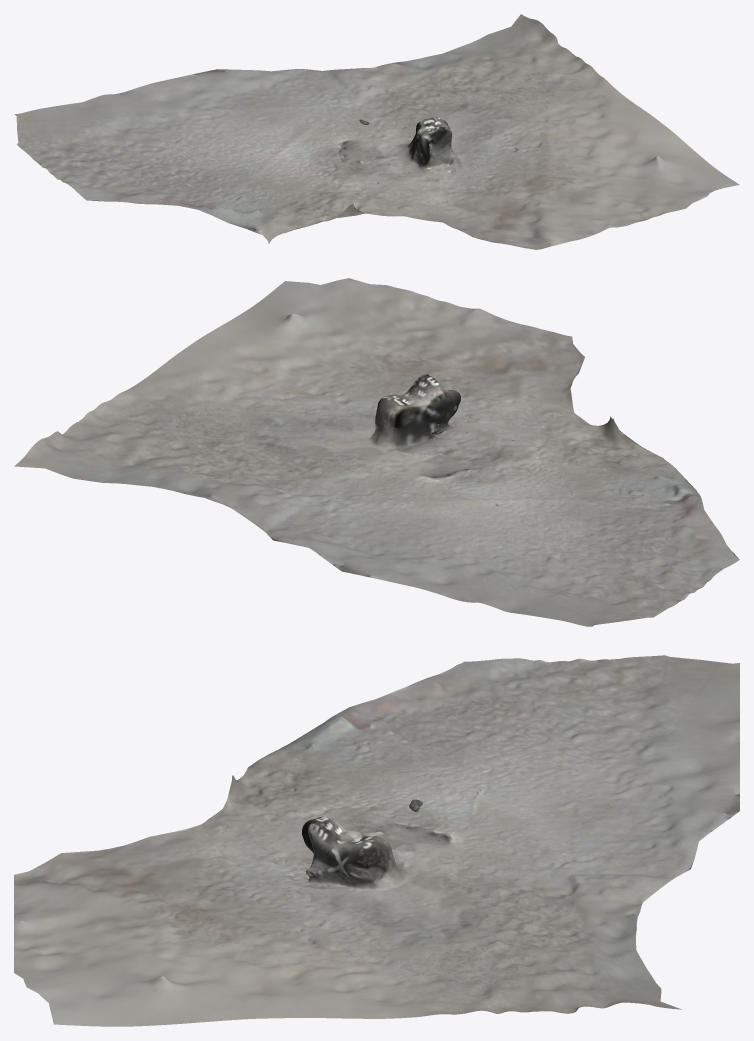
3 renders of one model, top to bottom at view 1: azimuth 30°, elevation 25°; view 2: azimuth 150°, elevation 25°; view 3: azimuth 270°, elevation 25°, orthographic. The views are drawn at different scales.
Size of the model in its own units: 3.55 by 0.3689 by 3.05.
1 material, 1 textured.
